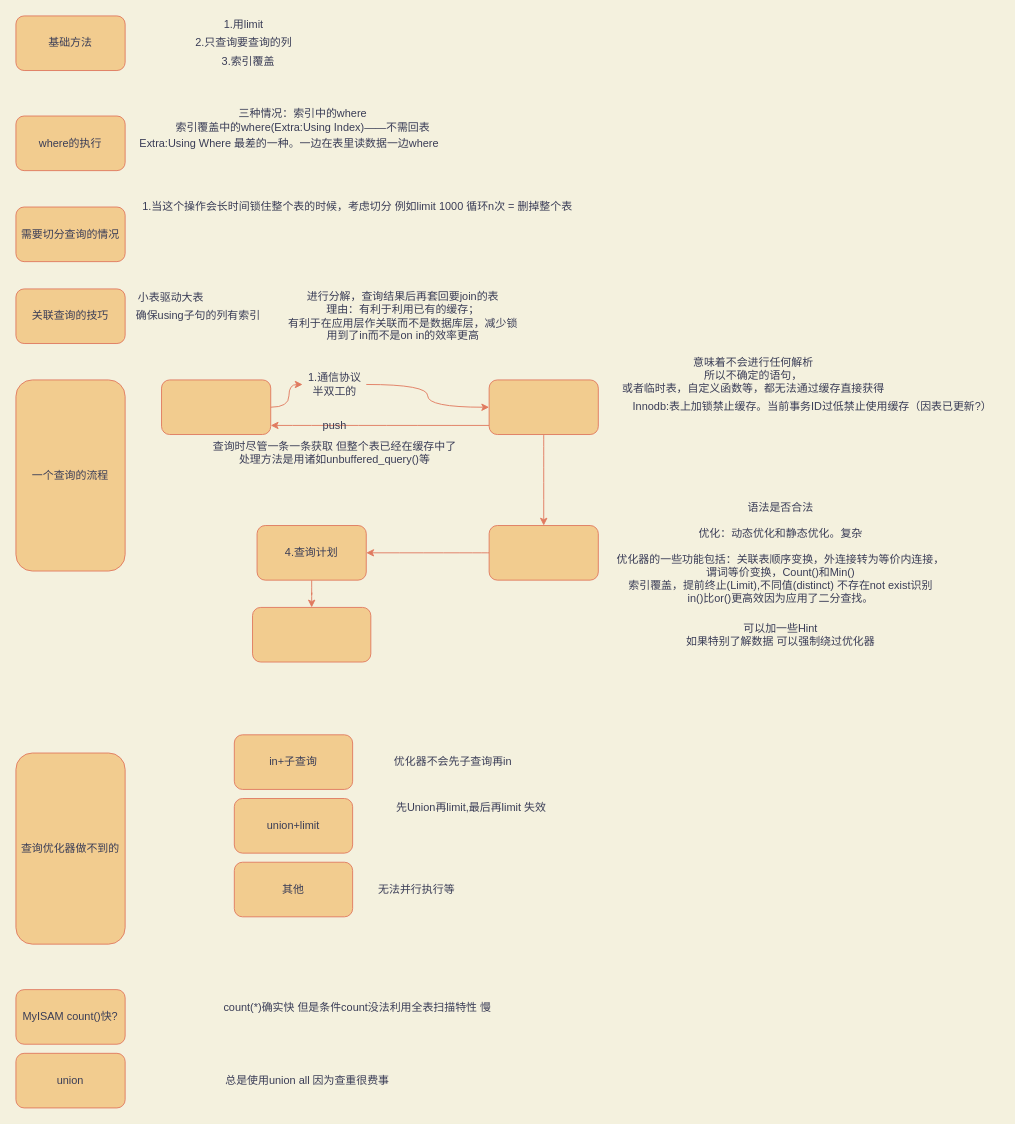
Image size: 1015x1124. Some labels were removed from this diagram. The shapes that lost their labels are listed below. From the top down, each one's centre as x and y in pixels, then its label:
At (216,407): "Client".
At (543,407): "2.查询缓存(Hash)".
At (543,552): "3.解析器、优化器".
At (311,634): "API 根据具体引擎查询".
